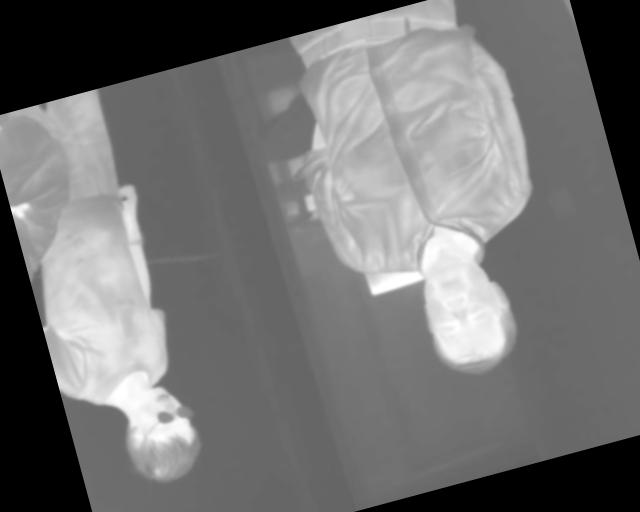face: (409, 242, 527, 386), (112, 378, 209, 493)
